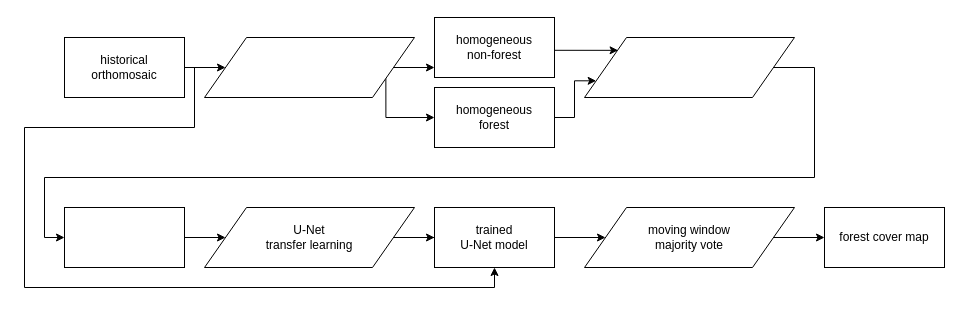
Some shapes in this 962 by 313 pixel diagram are drawn without their labels. The shapes that lost their labels are listed below. From the top down, each one's box as (x1, y1, x2, y2) in pixels, then its label:
(204, 36, 414, 98): random subset from homogenous polygons
(584, 36, 794, 98): random gaussian field recombination
(64, 206, 184, 268): labelled synthetic landscapes
